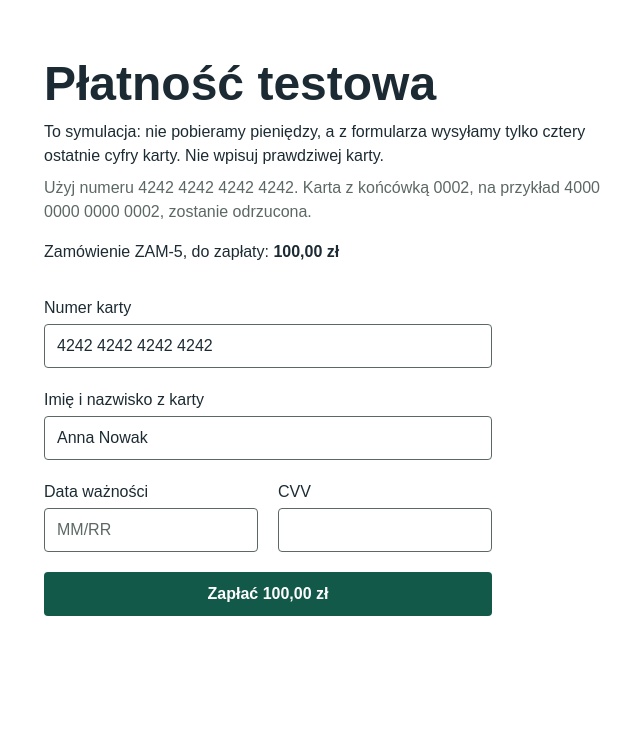
Test: PaymentPage › shows a refused card, clears the fields and allows another try
Earlier steps of the test are not shown.
Step 1. Type "12/40" into the field labelled "Data ważności" → (151, 530), box [44, 508, 258, 552]
Step 2. Type "123" into the field labelled "CVV" → (385, 530), box [278, 508, 492, 552]
Step 3. Click the button "Zapłać 100,00 zł" → (268, 594), box [44, 572, 492, 616]
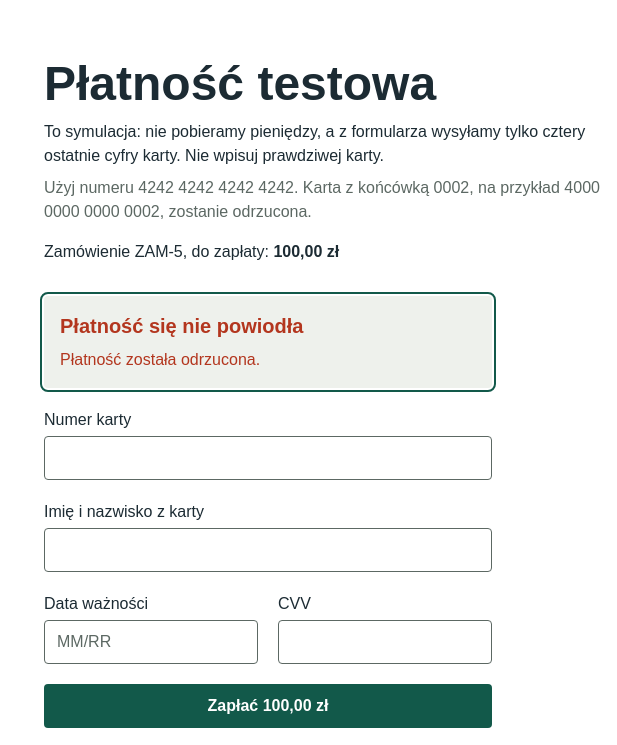
Expected: the heading "Płatność się nie powiodła" is shown, [60, 315, 303, 337]
Expected: the text "Płatność została odrzucona." is shown, [60, 351, 260, 368]
Expected: the field labelled "Numer karty" is empty
Step 4. Type "4242 4242 4242 4242" into the field labelled "Numer karty" → (268, 458), box [44, 436, 492, 480]
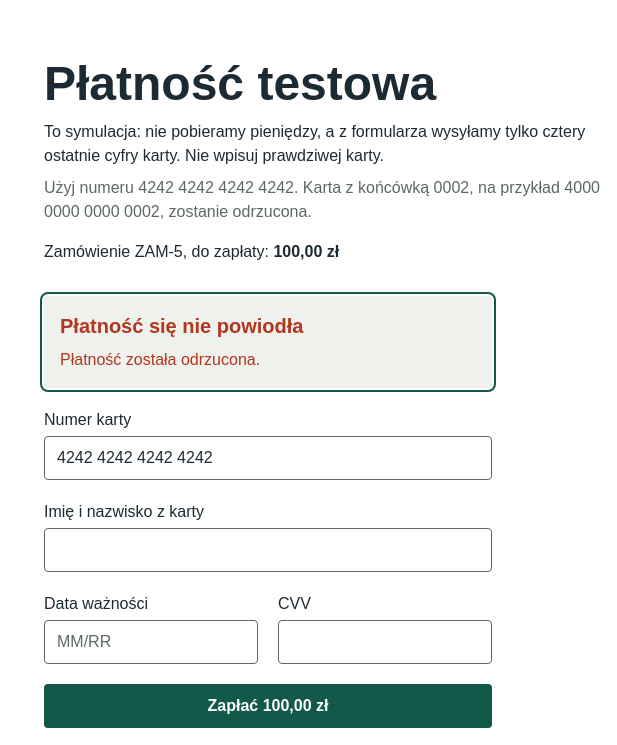
Step 5. Type "Anna Nowak" into the field labelled "Imię i nazwisko z karty" → (268, 550), box [44, 528, 492, 572]
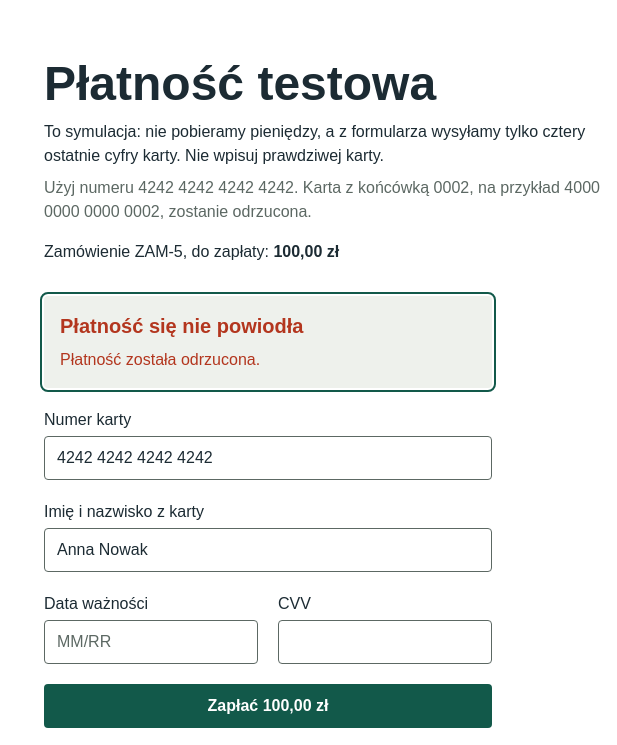
Step 6. Type "12/40" into the field labelled "Data ważności" → (151, 642), box [44, 620, 258, 664]
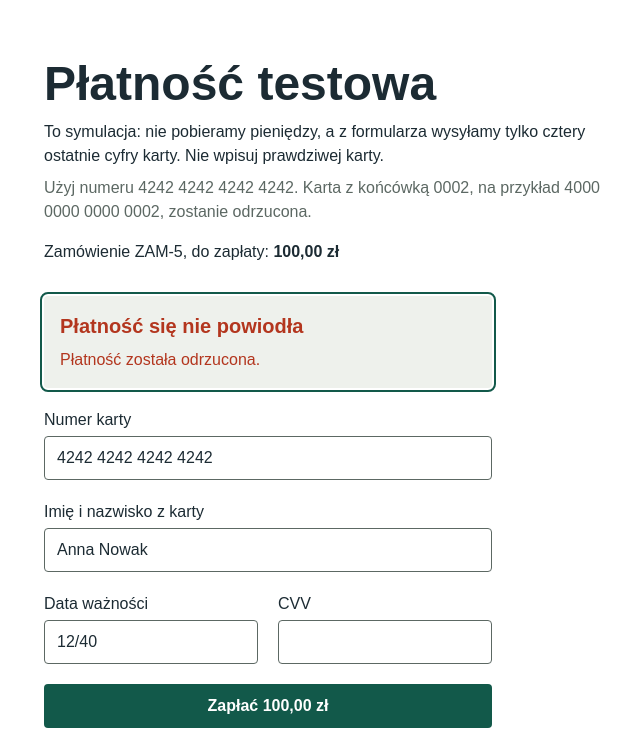
Step 7. Type "123" into the field labelled "CVV" → (385, 642), box [278, 620, 492, 664]
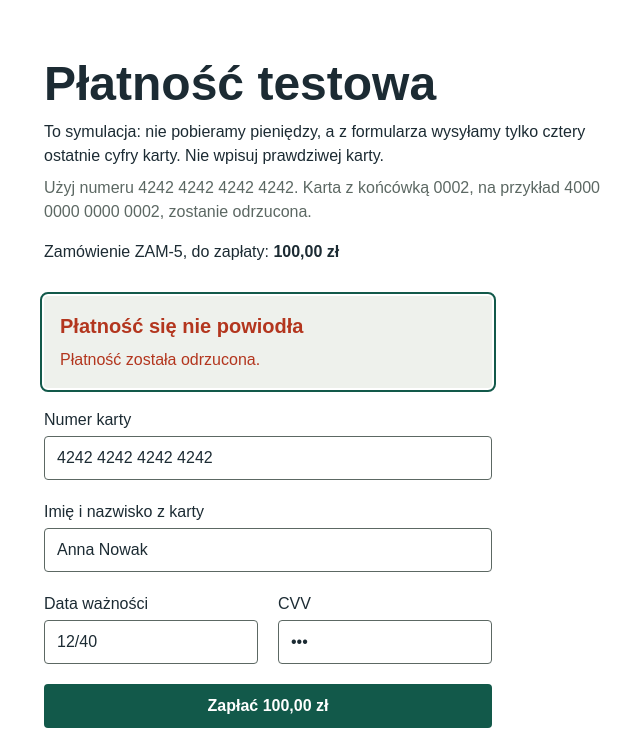
Step 8. Click the button "Zapłać 100,00 zł" → (268, 706), box [44, 684, 492, 728]
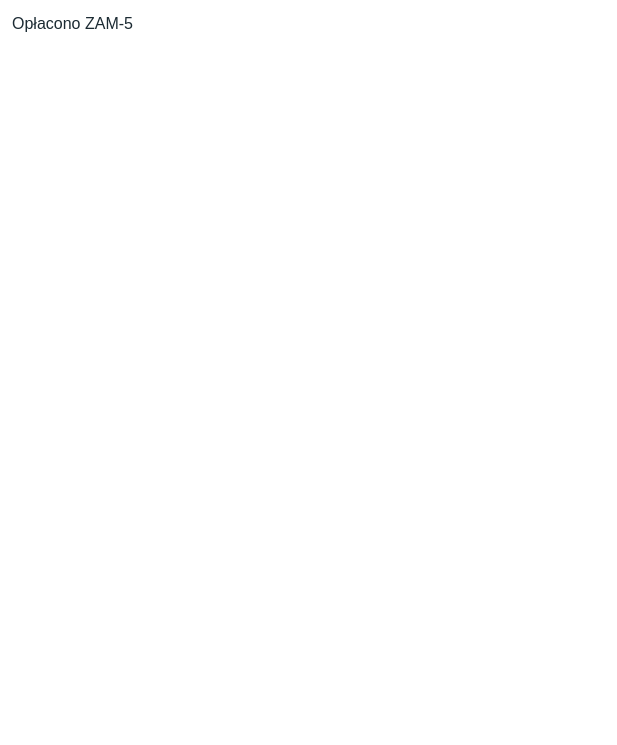
Expected: the text "Opłacono ZAM-5" is shown, [12, 15, 133, 32]
